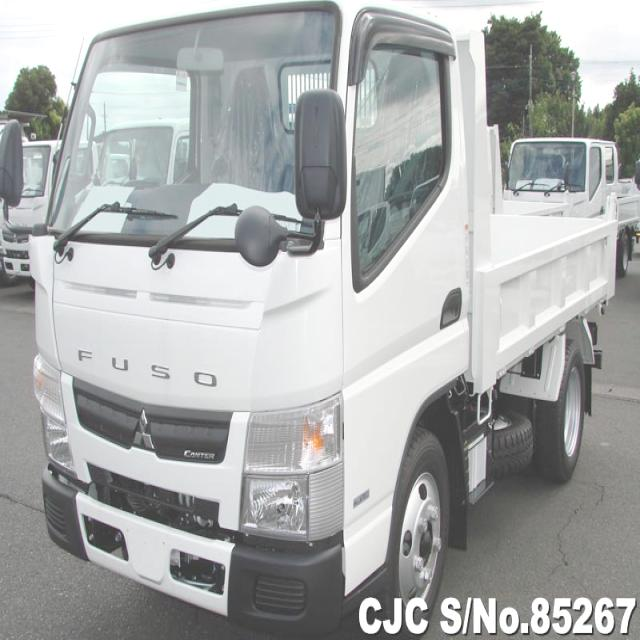truck: (1, 1, 615, 636)
